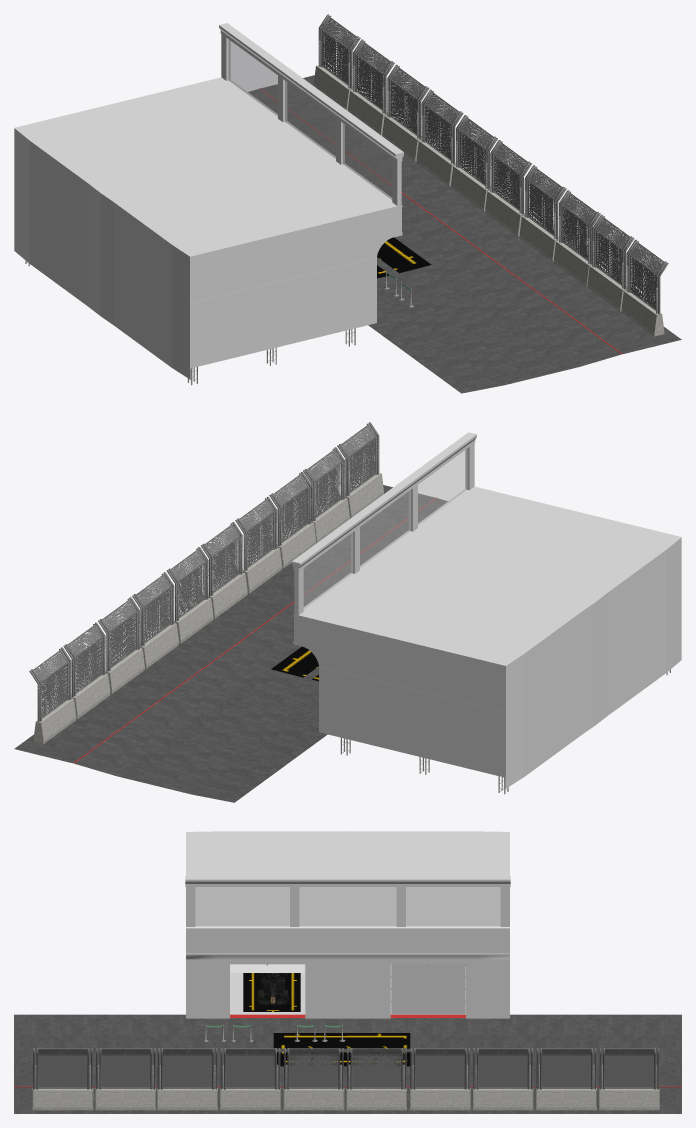
The picture shows the model from 3 angles, top to bottom: view 1: azimuth 30°, elevation 25°; view 2: azimuth 150°, elevation 25°; view 3: azimuth 270°, elevation 25°; orthographic projection. The views are drawn at different scales.
Visible parts, largest first — view 1: Garagem_paredes_teto_0, Garagem_pista_Concreto_0, Garagem_Vidro_Vidro_0, Barreira_cerca000_Barreira_cerca_0, Barreira_cerca008_Barreira_cerca_0, Barreira_cerca007_Barreira_cerca_0, Barreira_cerca005_Barreira_cerca_0, Barreira_cerca004_Barreira_cerca_0, Barreira_cerca009_Barreira_cerca_0, Barreira_cerca002_Barreira_cerca_0, Barreira_cerca003_Barreira_cerca_0, Barreira_cerca001_Barreira_cerca_0 (+13 smaller); view 2: Garagem_paredes_teto_0, Garagem_pista_Concreto_0, Garagem_Vidro_Vidro_0, Barreira_cerca007_Barreira_cerca_0, Barreira_cerca000_Barreira_cerca_0, Barreira_cerca003_Barreira_cerca_0, Barreira_cerca009_Barreira_cerca_0, Barreira_cerca004_Barreira_cerca_0, Barreira_cerca006_Barreira_cerca_0, Barreira_cerca008_Barreira_cerca_0, Barreira_cerca005_Barreira_cerca_0, Barreira_cerca002_Barreira_cerca_0 (+13 smaller); view 3: Garagem_paredes_teto_0, Garagem_pista_Concreto_0, Garagem_Vidro_Vidro_0, Piso_decal_A_Piso_decal_A_0, Portao_fechado_Portao_0, Barreira_cerca004_Barreira_cerca_0, Barreira_cerca003_Barreira_cerca_0, Barreira_cerca000_Barreira_cerca_0, Barreira_cerca006_Barreira_cerca_0, Barreira_cerca007_Barreira_cerca_0, Barreira_cerca008_Barreira_cerca_0, Barreira_cerca001_Barreira_cerca_0 (+17 smaller).
Boxes of the visible parts, x1,y1,x2,y2 form: Garagem_paredes_teto_0: (14,23,403,379); Garagem_pista_Concreto_0: (248,75,681,392); Garagem_Vidro_Vidro_0: (228,40,392,199); Barreira_cerca000_Barreira_cerca_0: (524,165,566,239); Barreira_cerca008_Barreira_cerca_0: (592,215,634,289); Barreira_cerca007_Barreira_cerca_0: (421,89,463,164); Barreira_cerca005_Barreira_cerca_0: (387,64,429,139); Barreira_cerca004_Barreira_cerca_0: (318,14,360,88); Barreira_cerca009_Barreira_cerca_0: (626,239,668,314); Barreira_cerca002_Barreira_cerca_0: (490,140,532,214); Barreira_cerca003_Barreira_cerca_0: (352,39,394,113); Barreira_cerca001_Barreira_cerca_0: (456,115,497,189); Garagem_paredes_teto_0: (292,432,681,788); Garagem_pista_Concreto_0: (14,485,447,801); Garagem_Vidro_Vidro_0: (303,449,467,608); Barreira_cerca007_Barreira_cerca_0: (132,572,174,646); Barreira_cerca000_Barreira_cerca_0: (235,496,277,571); Barreira_cerca003_Barreira_cerca_0: (63,622,105,696); Barreira_cerca009_Barreira_cerca_0: (337,422,379,496); Barreira_cerca004_Barreira_cerca_0: (29,647,71,721); Barreira_cerca006_Barreira_cerca_0: (269,472,311,546); Barreira_cerca008_Barreira_cerca_0: (303,447,345,521); Barreira_cerca005_Barreira_cerca_0: (98,597,140,671); Barreira_cerca002_Barreira_cerca_0: (201,522,242,596); Garagem_paredes_teto_0: (185,831,510,1018); Garagem_pista_Concreto_0: (14,1018,681,1113); Garagem_Vidro_Vidro_0: (195,887,500,925); Piso_decal_A_Piso_decal_A_0: (243,973,410,1066); Portao_fechado_Portao_0: (391,964,465,1014); Barreira_cerca004_Barreira_cerca_0: (599,1048,659,1089); Barreira_cerca003_Barreira_cerca_0: (536,1048,596,1089); Barreira_cerca000_Barreira_cerca_0: (220,1048,280,1089); Barreira_cerca006_Barreira_cerca_0: (157,1048,217,1089); Barreira_cerca007_Barreira_cerca_0: (410,1048,469,1089); Barreira_cerca008_Barreira_cerca_0: (96,1048,155,1089); Barreira_cerca001_Barreira_cerca_0: (347,1048,406,1089).
Size of the model in its own units: 2192 by 974 by 3443.
Materials: 39 (33 with a texture image).
